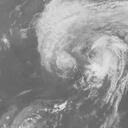cyclone: (42, 23, 127, 90)
